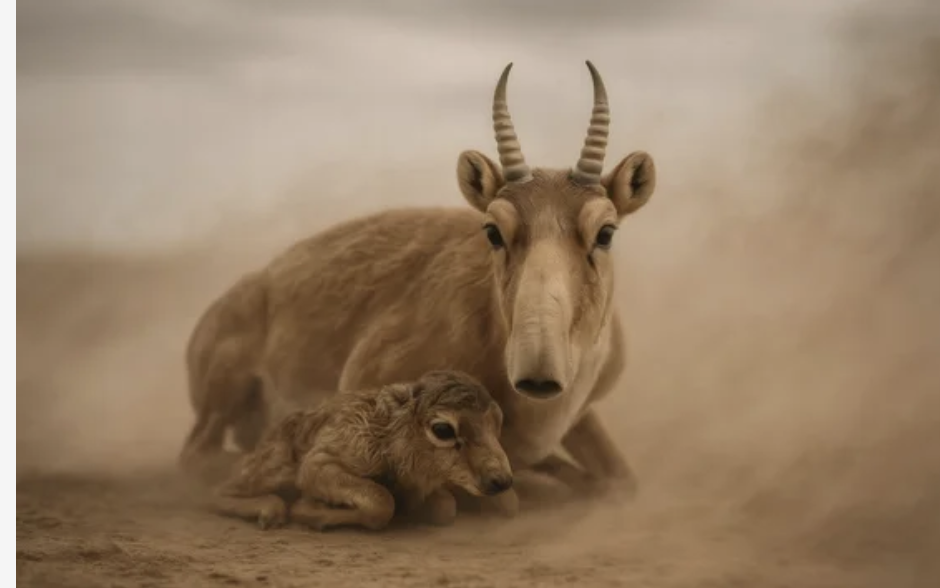saiga: (161, 52, 678, 534)
